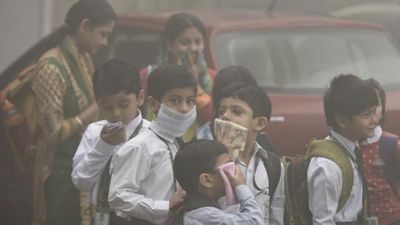no-mask: (206, 87, 275, 155), (179, 144, 246, 212), (88, 64, 140, 136), (332, 80, 381, 148), (165, 22, 206, 67), (78, 11, 119, 53)
with-mask: (146, 66, 198, 146)
